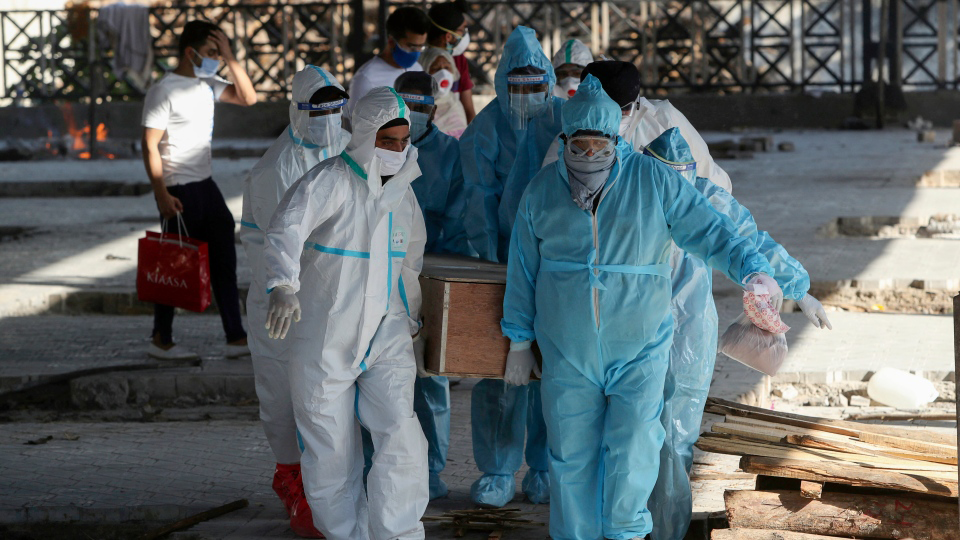Coverall: (283, 166, 427, 529), (528, 161, 671, 521), (461, 104, 553, 262)
Gloves: (503, 332, 541, 396), (791, 280, 836, 334), (266, 285, 306, 342)
Goggles: (563, 126, 616, 162)
with_mask: (372, 128, 408, 178), (311, 105, 344, 144), (510, 82, 547, 116), (390, 30, 424, 66), (189, 43, 220, 78)
